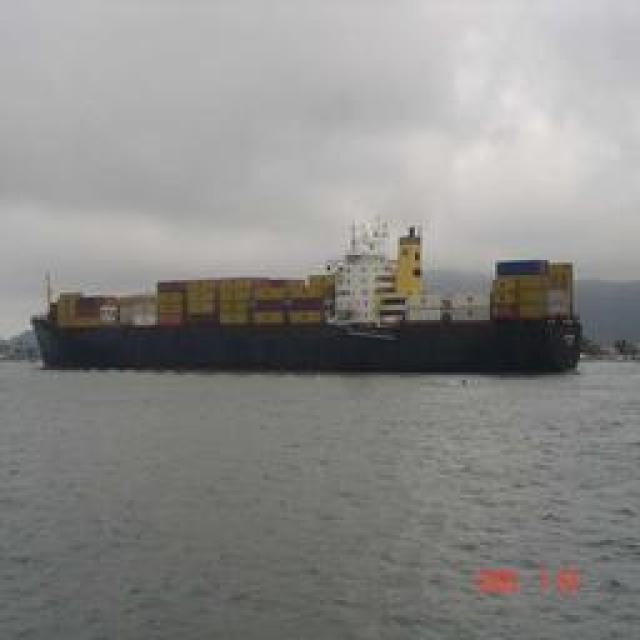CIV_Ship: (30, 260, 582, 378)
